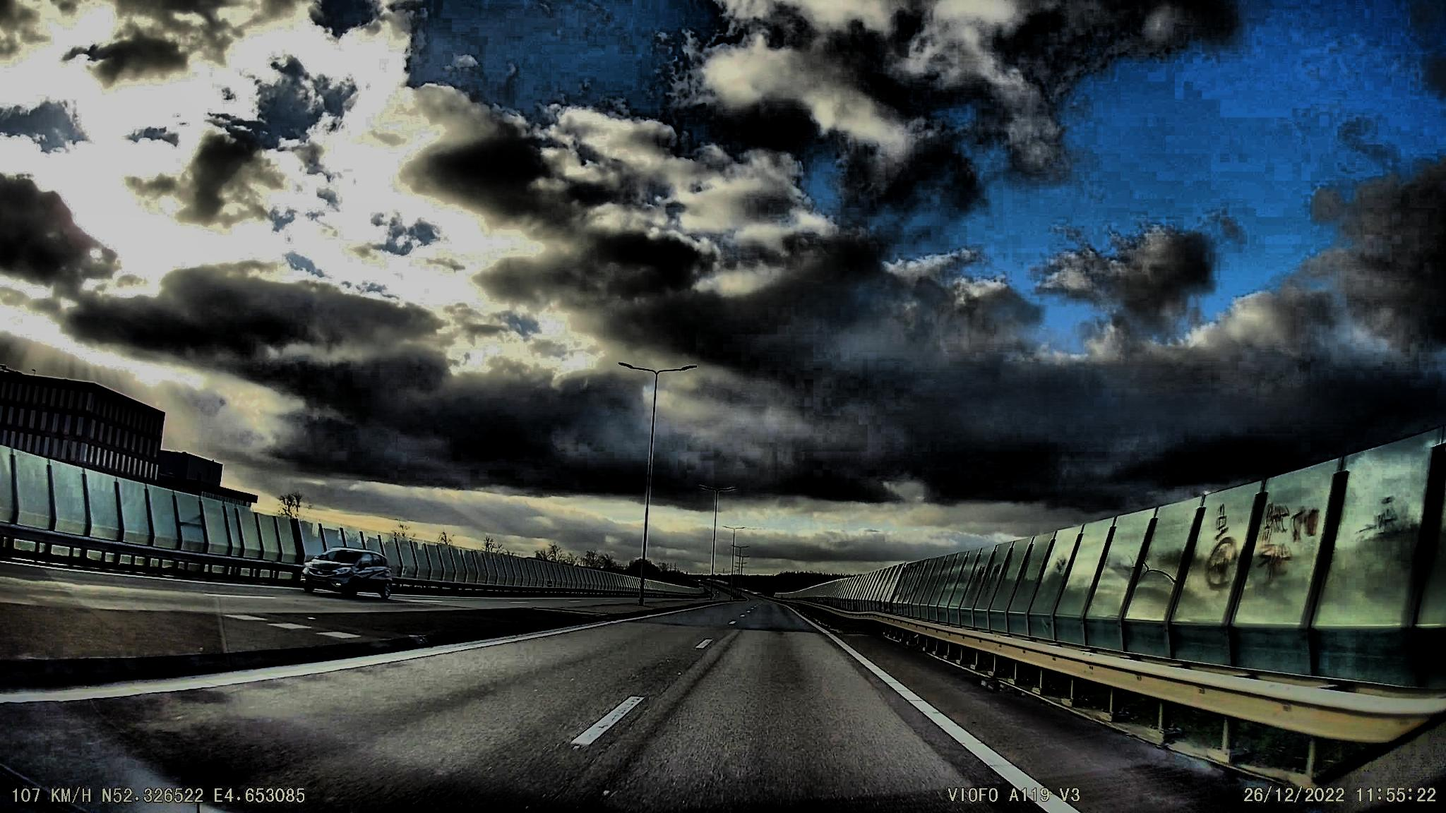Roads: (0, 603, 1241, 813)
